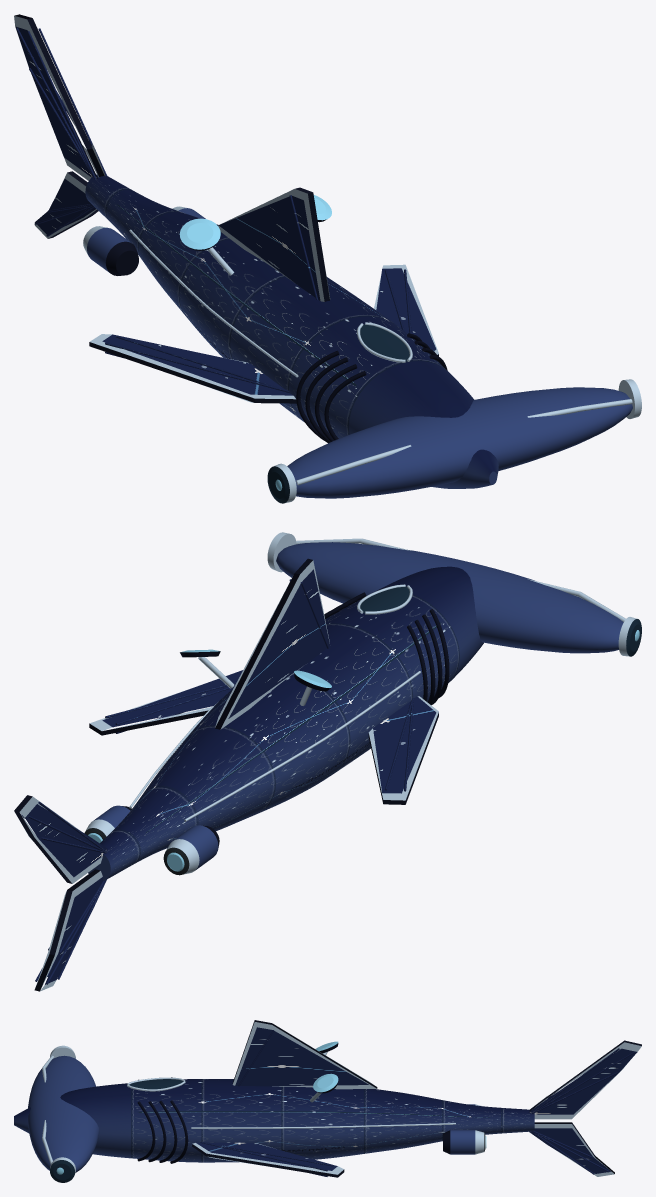
3 views of the same model, one above another, from view 1: azimuth 30°, elevation 25°; view 2: azimuth 150°, elevation 25°; view 3: azimuth 270°, elevation 25° (orthographic). The views are drawn at different scales.
Visible parts, largest first — view 1: hammerhead_hull; view 2: hammerhead_hull; view 3: hammerhead_hull.
Part boxes in pixels (x1=…): hammerhead_hull: x1=14, y1=14, x2=641, y2=503; hammerhead_hull: x1=14, y1=532, x2=641, y2=991; hammerhead_hull: x1=14, y1=1020, x2=641, y2=1182.
Size of the model in its own units: 34.14 by 21.29 by 78.
Materials: 1 (1 with a texture image).
